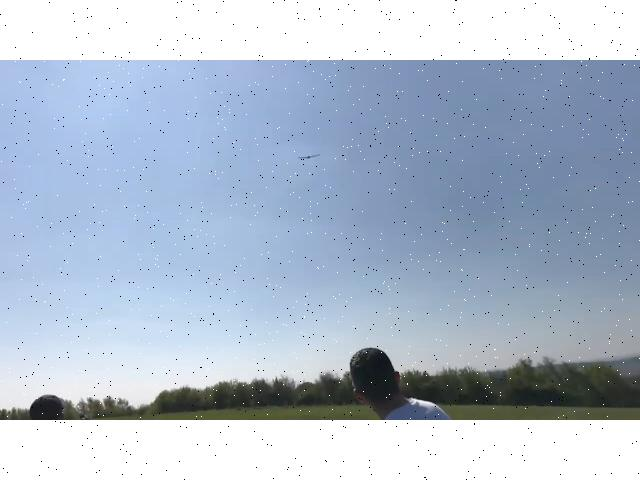Anti-Drone: (299, 152, 321, 160)
